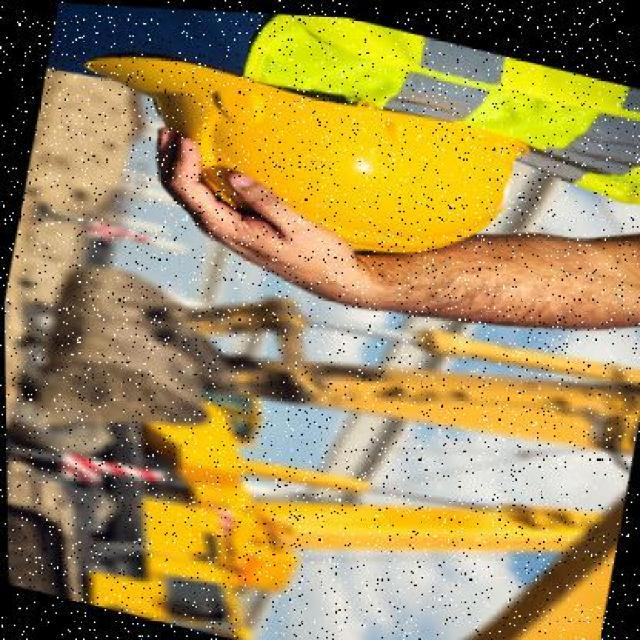helmet: (63, 20, 532, 290)
